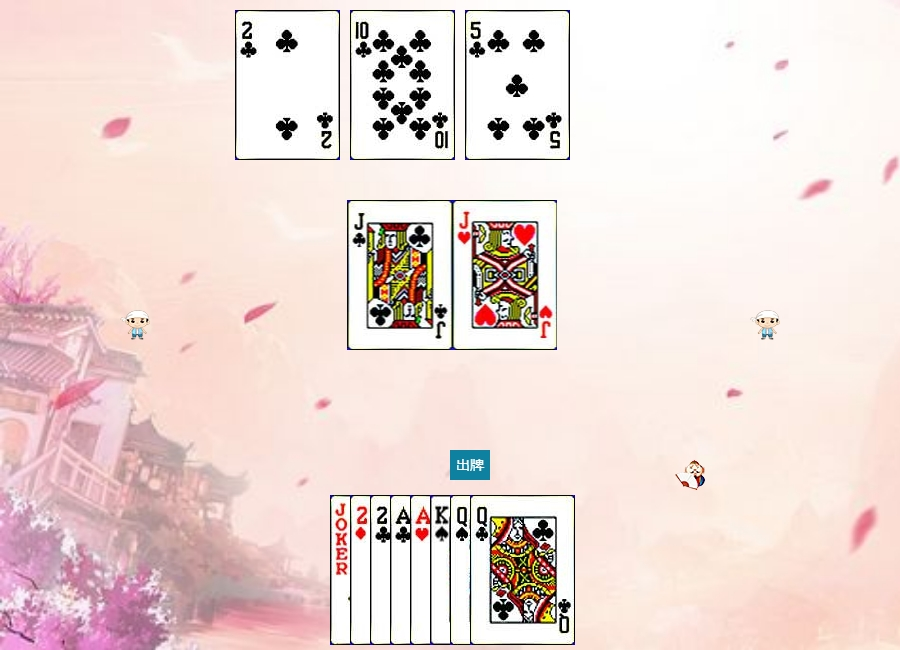10~2: (350, 10, 455, 160)
11~2: (348, 200, 453, 350)
11~3: (453, 200, 558, 350)
12~2: (470, 495, 575, 645)
12~4: (450, 495, 555, 645)
13~4: (430, 495, 535, 645)
14~2: (390, 495, 495, 645)
14~3: (410, 495, 515, 645)
15~1: (350, 495, 455, 645)
15~2: (235, 10, 340, 160), (370, 495, 475, 645)
18~4: (330, 495, 435, 645)
5~2: (465, 10, 570, 160)
